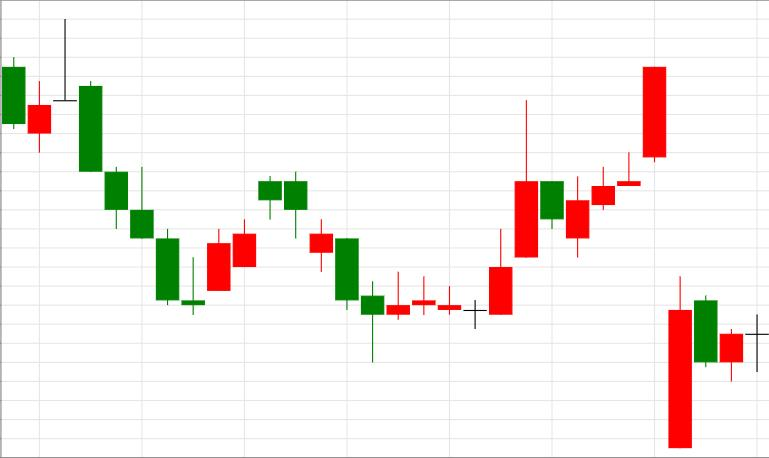morning_star_rise: (54, 20, 230, 315)
